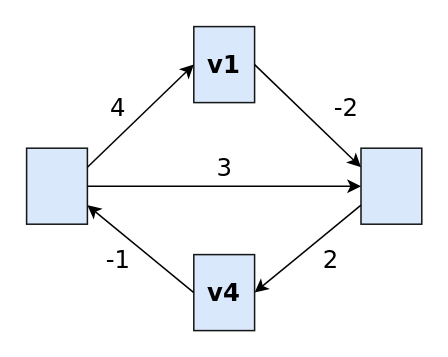
The diagram is 448 pixels wide and 357 high, and some of its shapes have lost their labels. Here are the shapes that lost their labels. From the top down, the box of each, then its label:
(25, 147, 87, 224): v2
(359, 147, 422, 224): v3
